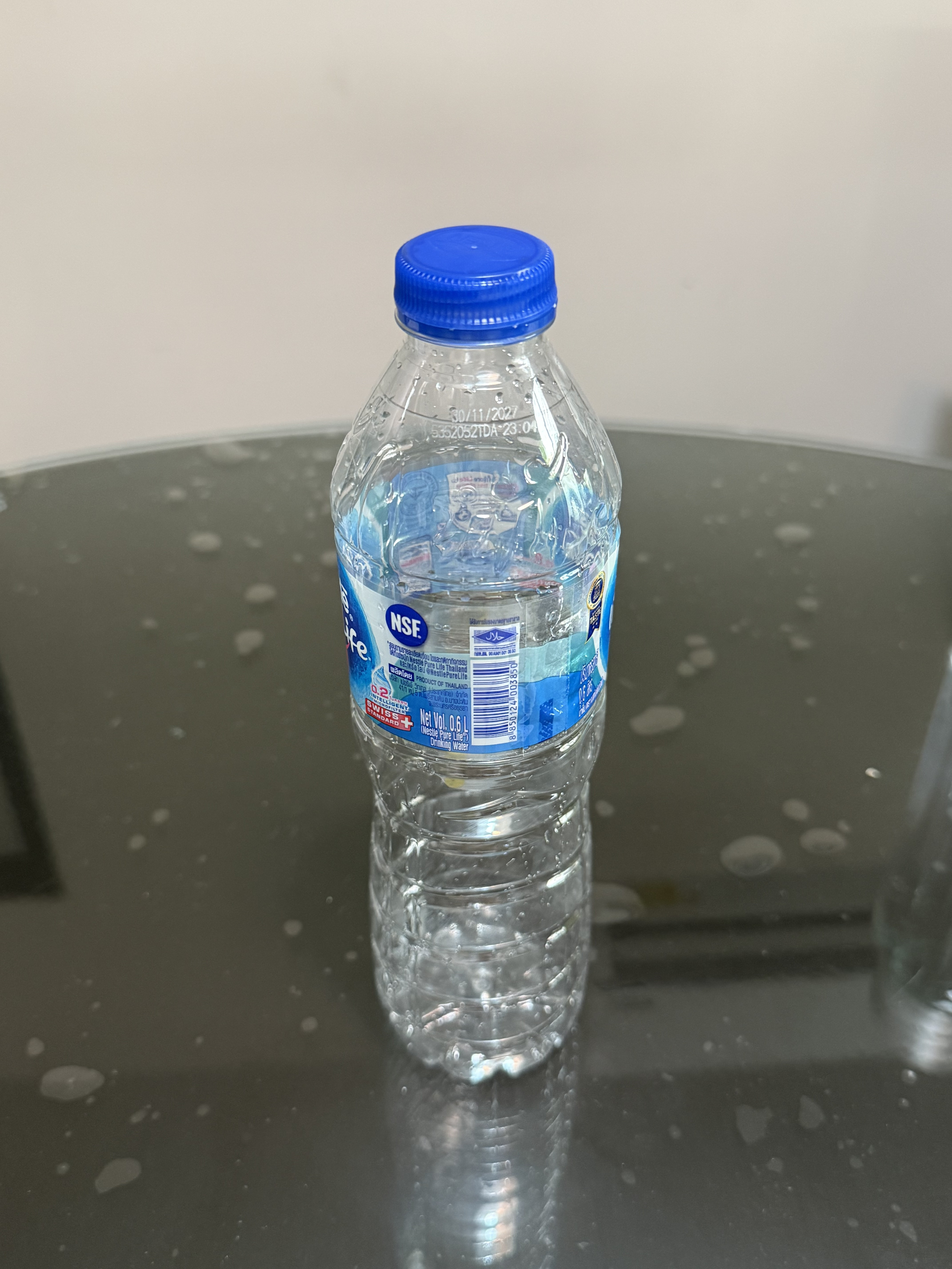closed_cap: (391, 221, 559, 344)
